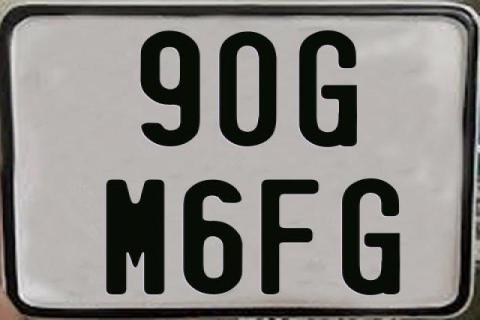0: (140, 31, 204, 151), (180, 177, 244, 293), (218, 29, 278, 144)
F: (259, 178, 321, 294)
G: (339, 178, 399, 300), (299, 29, 361, 147)
M: (105, 179, 165, 297)
